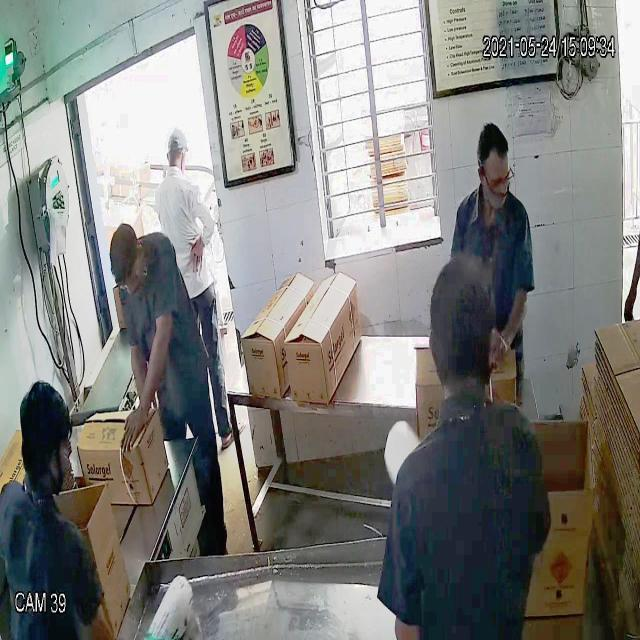glasses: (475, 154, 516, 196)
